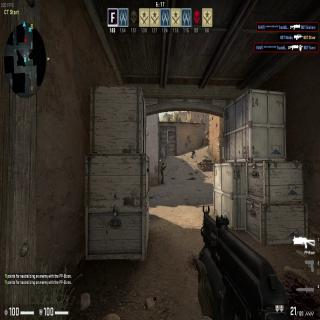CT-Body: (160, 162, 164, 185)
CT-Head: (162, 162, 164, 166)
